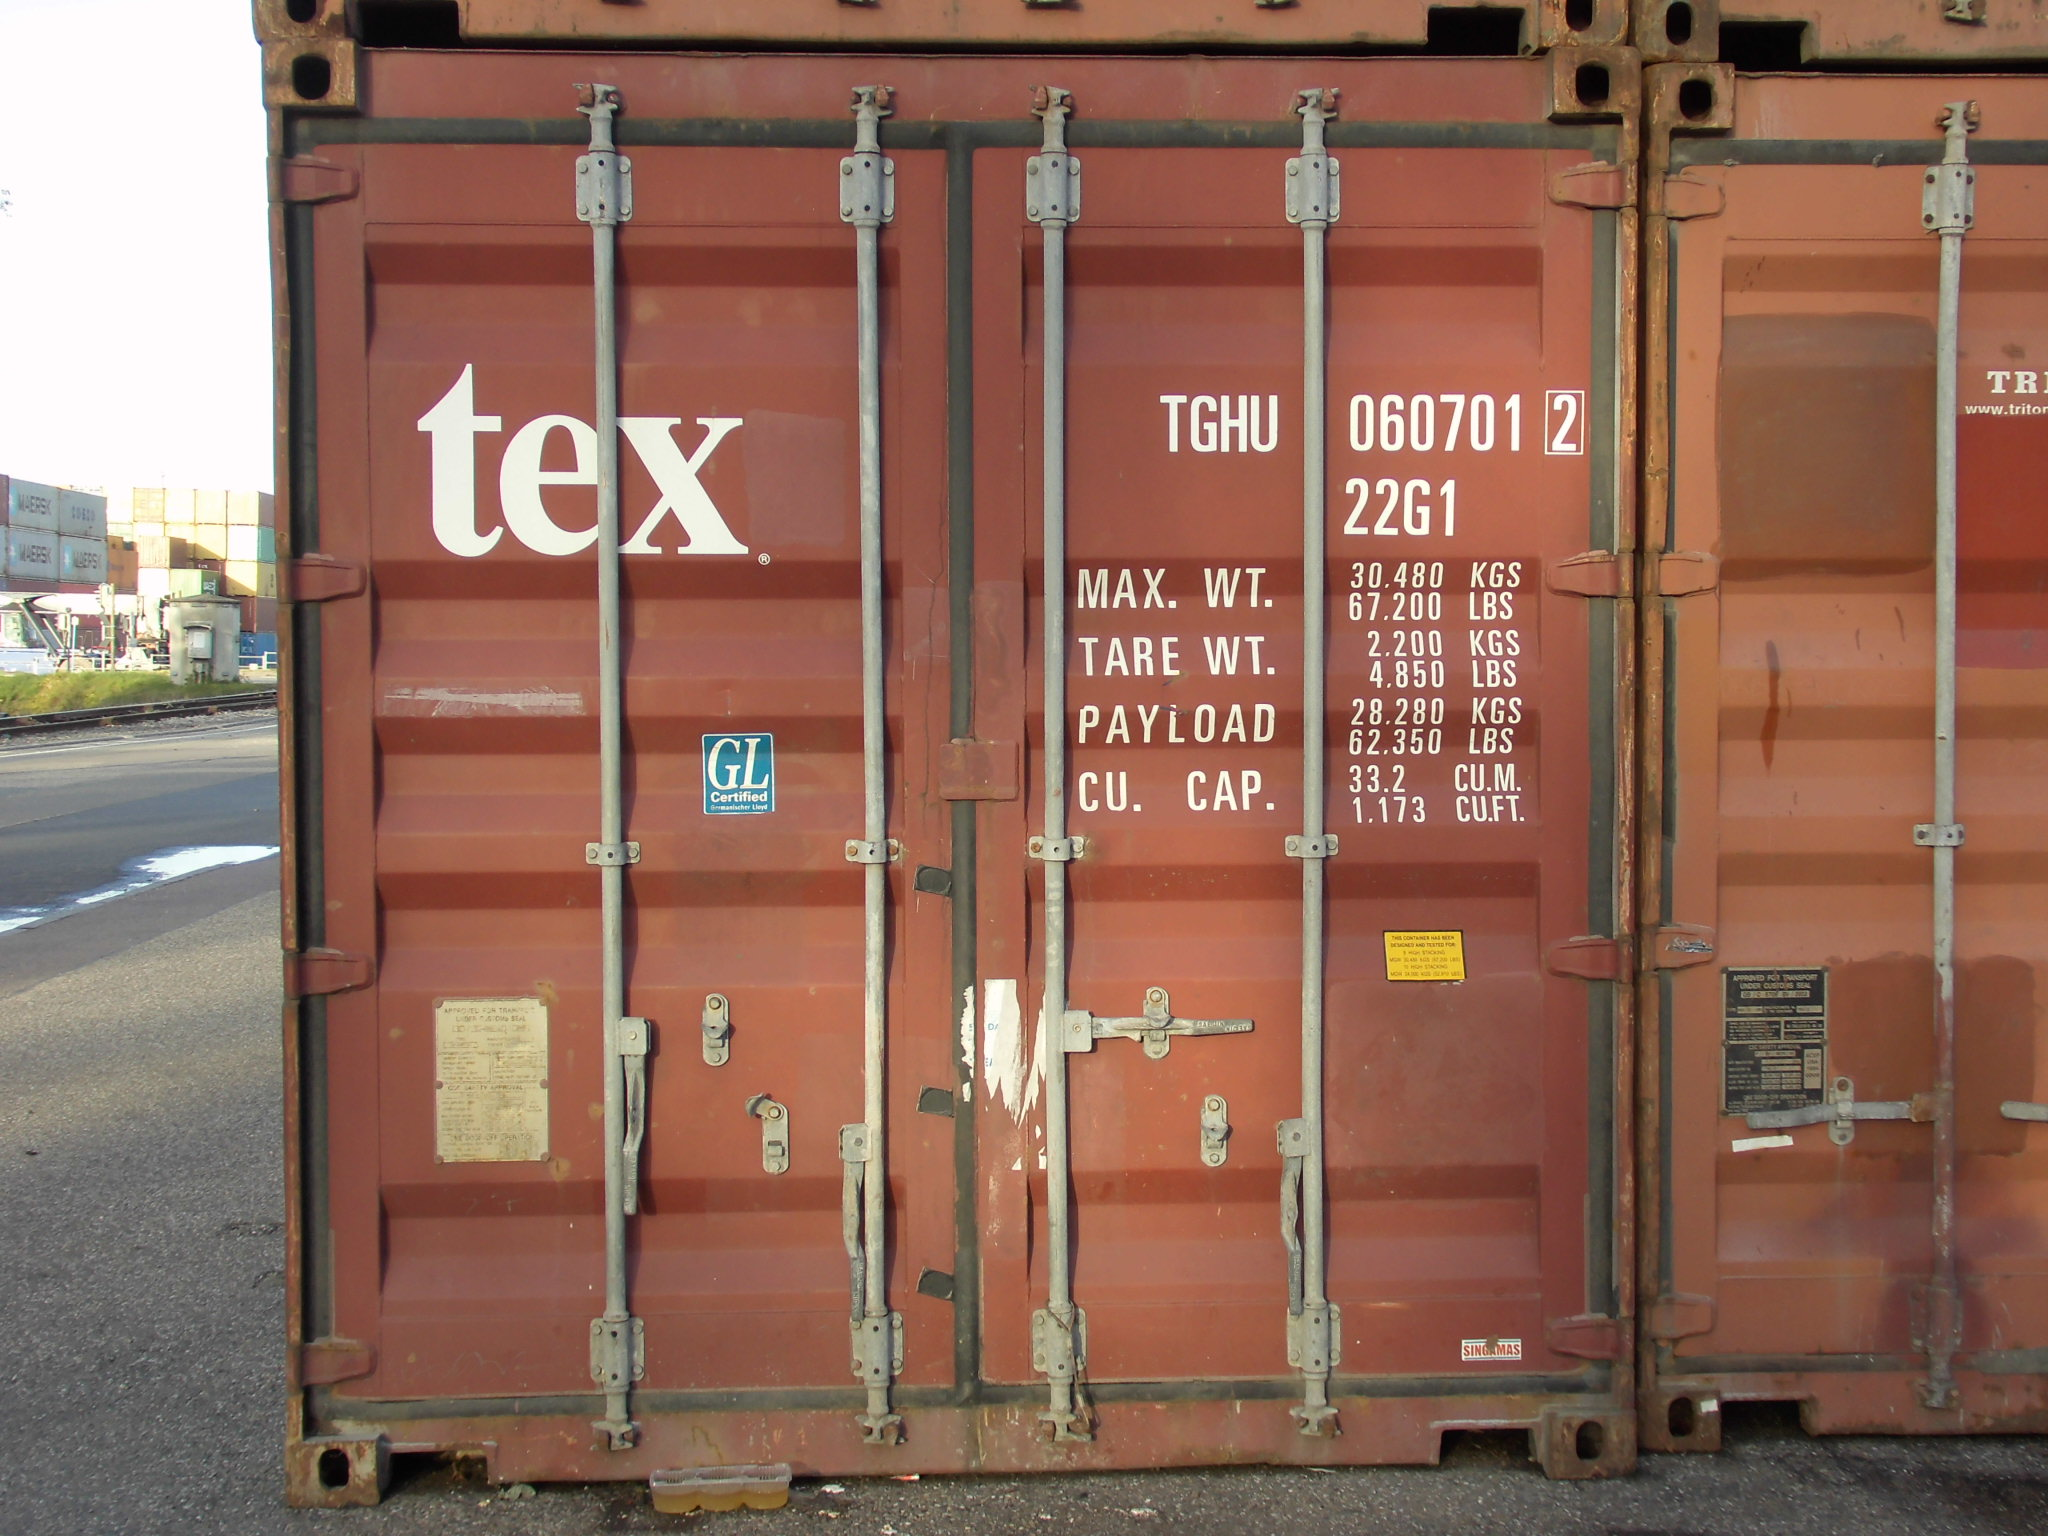container_door: (248, 27, 1650, 1486)
